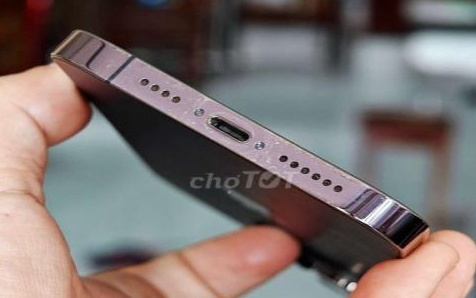scratch: (147, 70, 274, 168), (273, 123, 370, 186), (99, 48, 135, 74)
